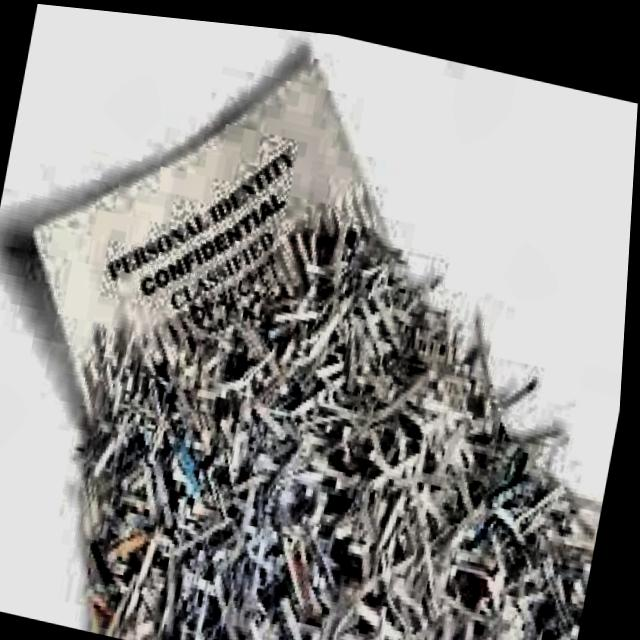Paper: (47, 168, 632, 640), (0, 2, 406, 486)
